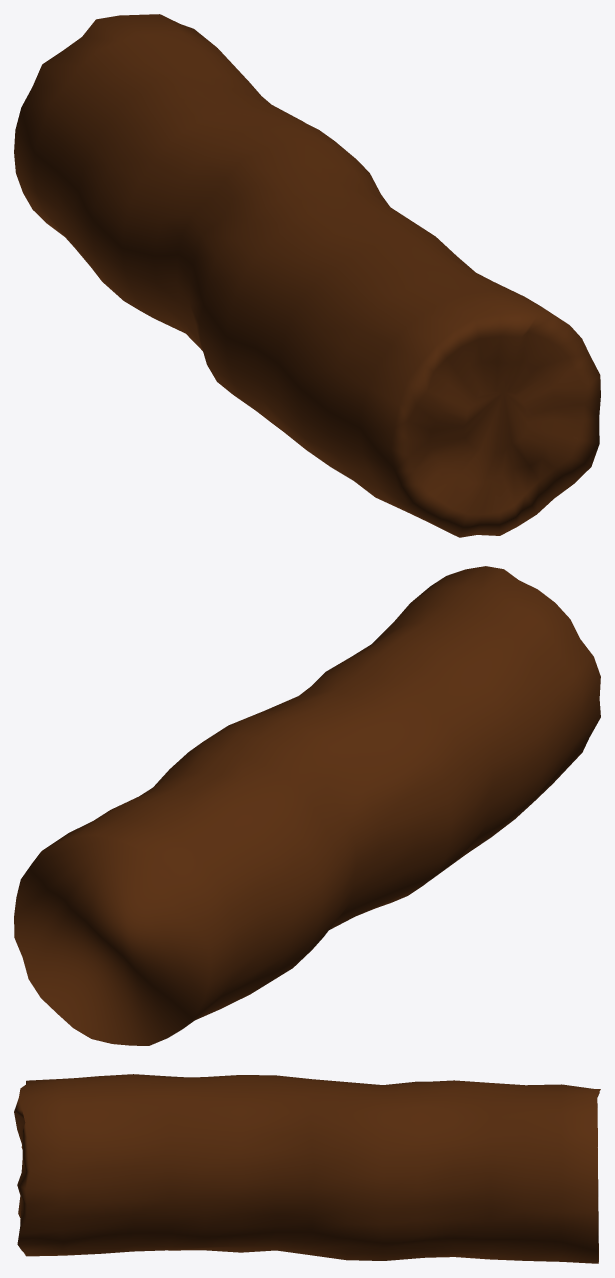
The model's file is Wood.fbx.
3 renders of one model, top to bottom at view 1: azimuth 30°, elevation 25°; view 2: azimuth 150°, elevation 25°; view 3: azimuth 270°, elevation 25°, orthographic. The views are drawn at different scales.
Parts seen in each view (by area): view 1: wood; view 2: wood; view 3: wood.
Boxes of the visible parts, x1,y1,x2,y2 form: wood: (14,14,600,537); wood: (14,566,600,1045); wood: (14,1074,600,1263).
Size of the model in its own units: 235 by 203 by 669.
